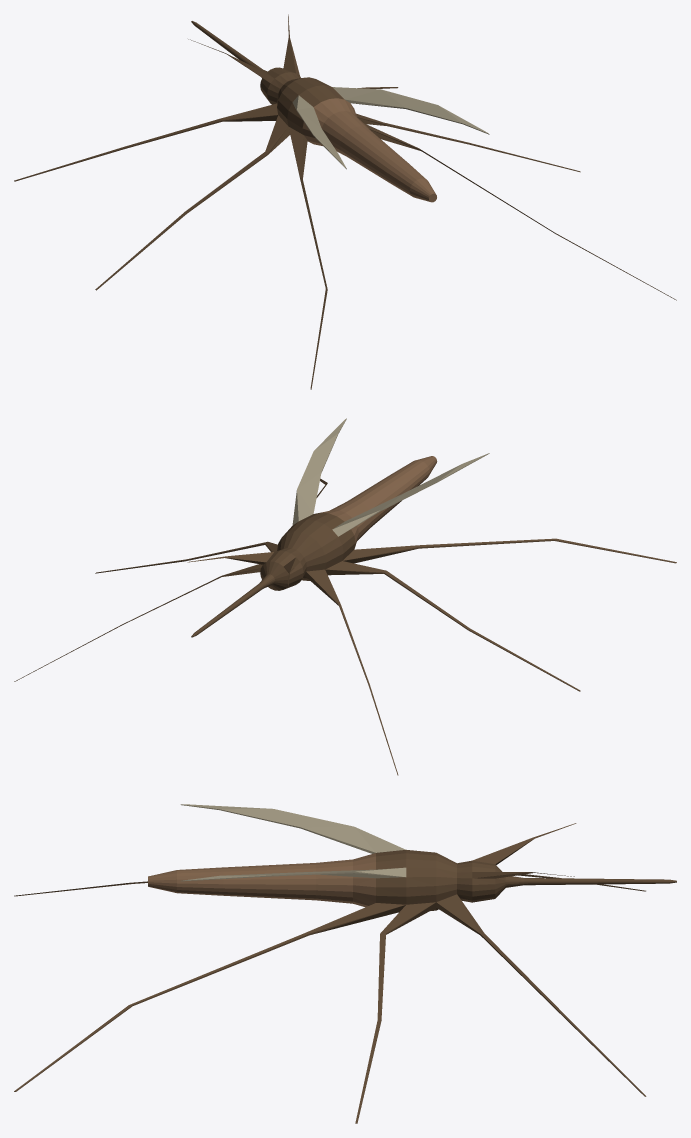
The model's file is NEW_RECOVERY_070_LOD0.glb.
3 views of the same model, one above another, from view 1: azimuth 30°, elevation 25°; view 2: azimuth 150°, elevation 25°; view 3: azimuth 270°, elevation 25° (orthographic). The views are drawn at different scales.
Parts seen in each view (by area): view 1: Mosquito; view 2: Mosquito; view 3: Mosquito.
Boxes of the visible parts, bbox=[...] form: Mosquito: bbox=[14, 14, 676, 389]; Mosquito: bbox=[14, 418, 676, 775]; Mosquito: bbox=[14, 804, 676, 1123].
Bounding box in the file's own units: 5.3 × 1.45 × 5.73.
